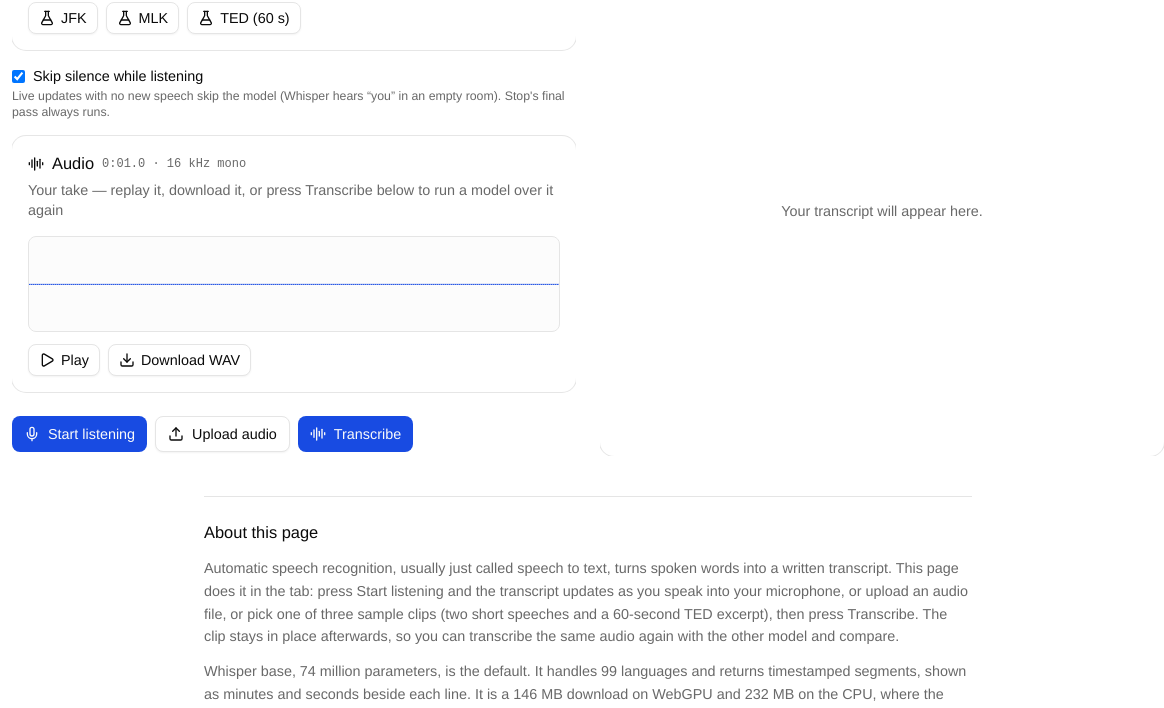
Test: AsrPage › toggles play → pause → resume and stops playback
(page scrolled)
Click the button "Play": x=64, y=360 [28, 344, 100, 376]
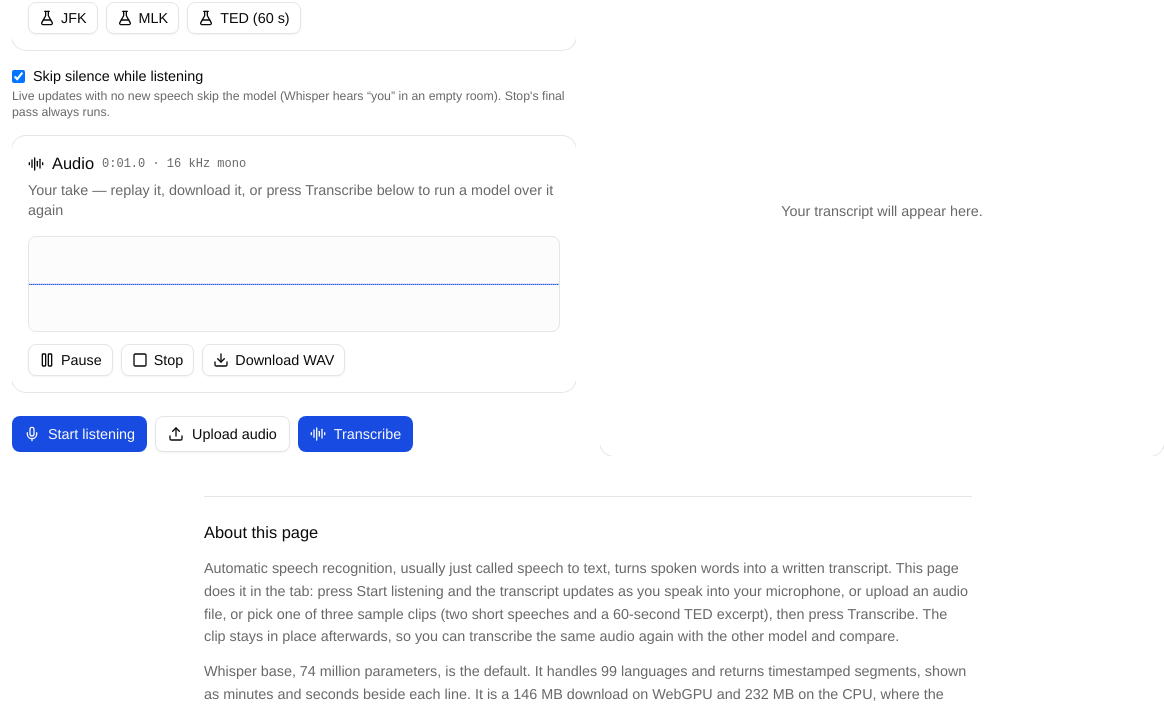
Check: the button "Stop" is shown, box [121, 344, 194, 376]
Click the button "Pause": x=70, y=360 [28, 344, 113, 376]
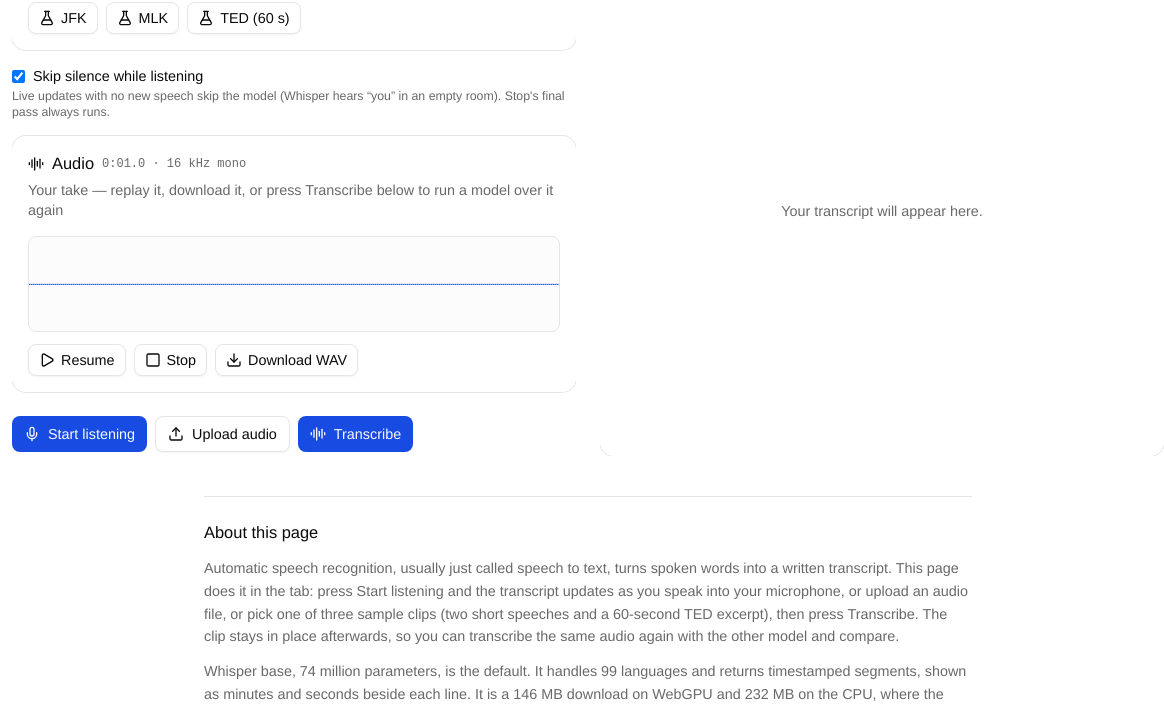
Click the button "Resume": x=77, y=360 [28, 344, 126, 376]
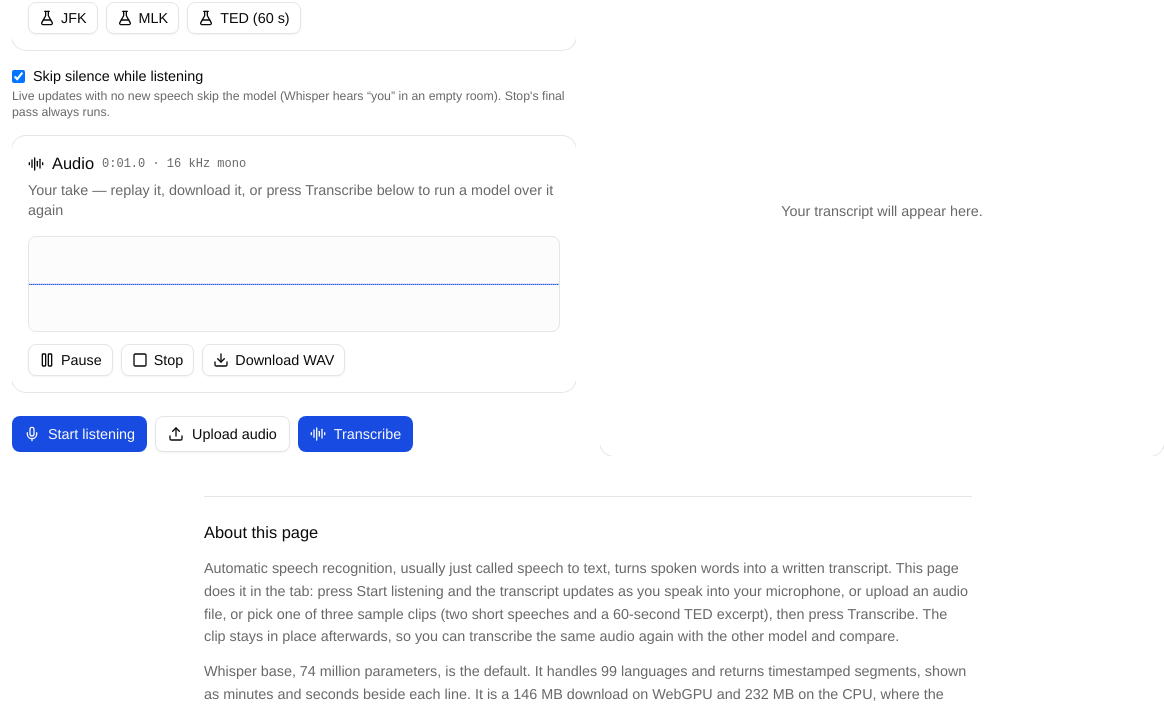
Stop → closes the context and returns to the idle Play state.
Click the button "Stop": x=158, y=360 [121, 344, 194, 376]
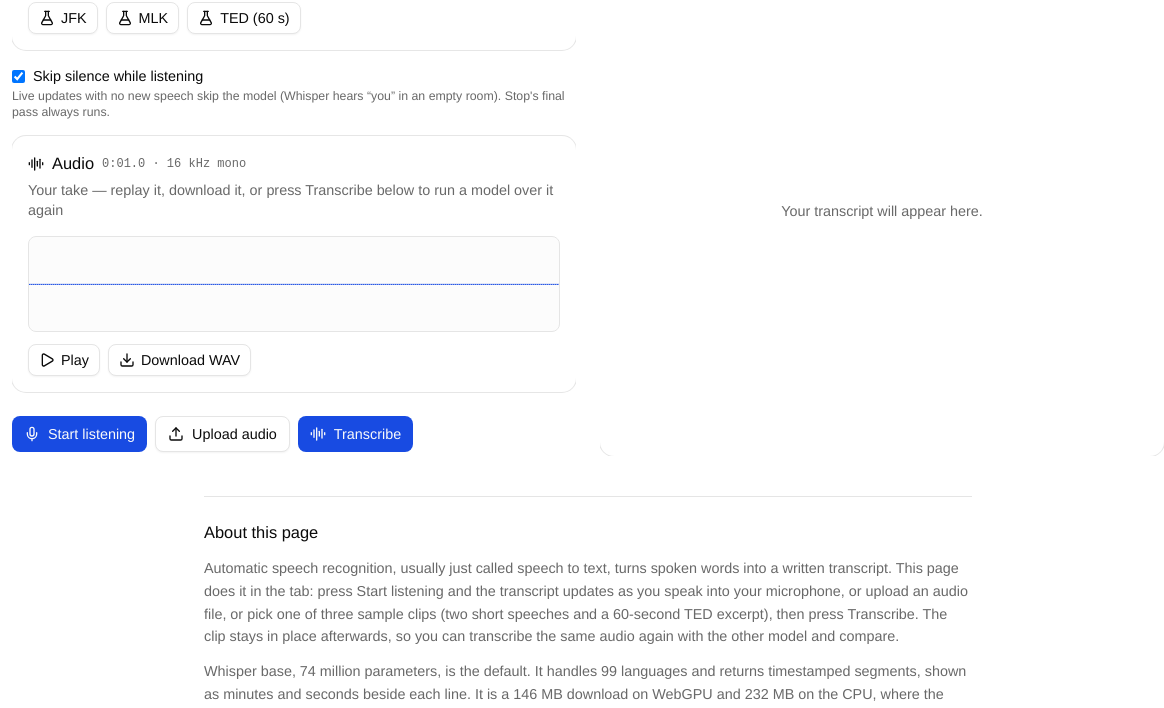
Check: the button "Play" is shown, box [28, 344, 100, 376]
Check: the button "Stop" is gone
